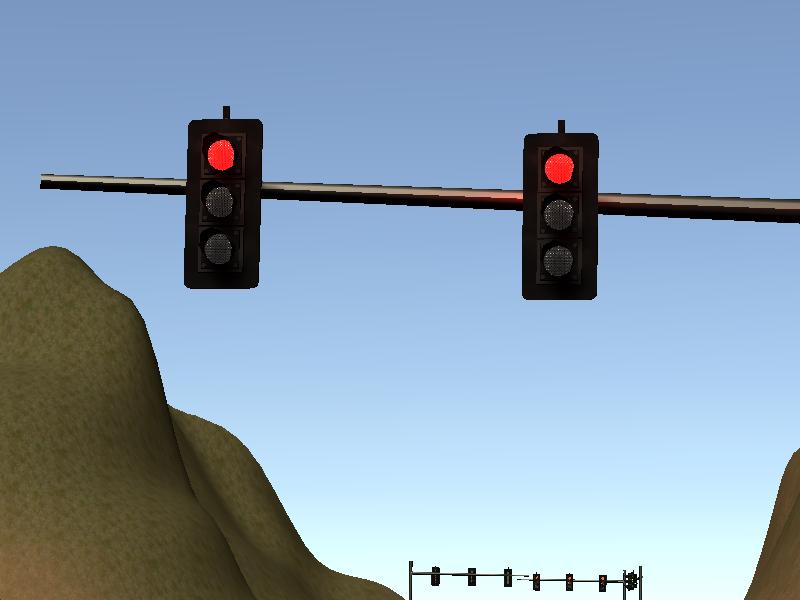red: (184, 118, 262, 291), (519, 130, 597, 303)
